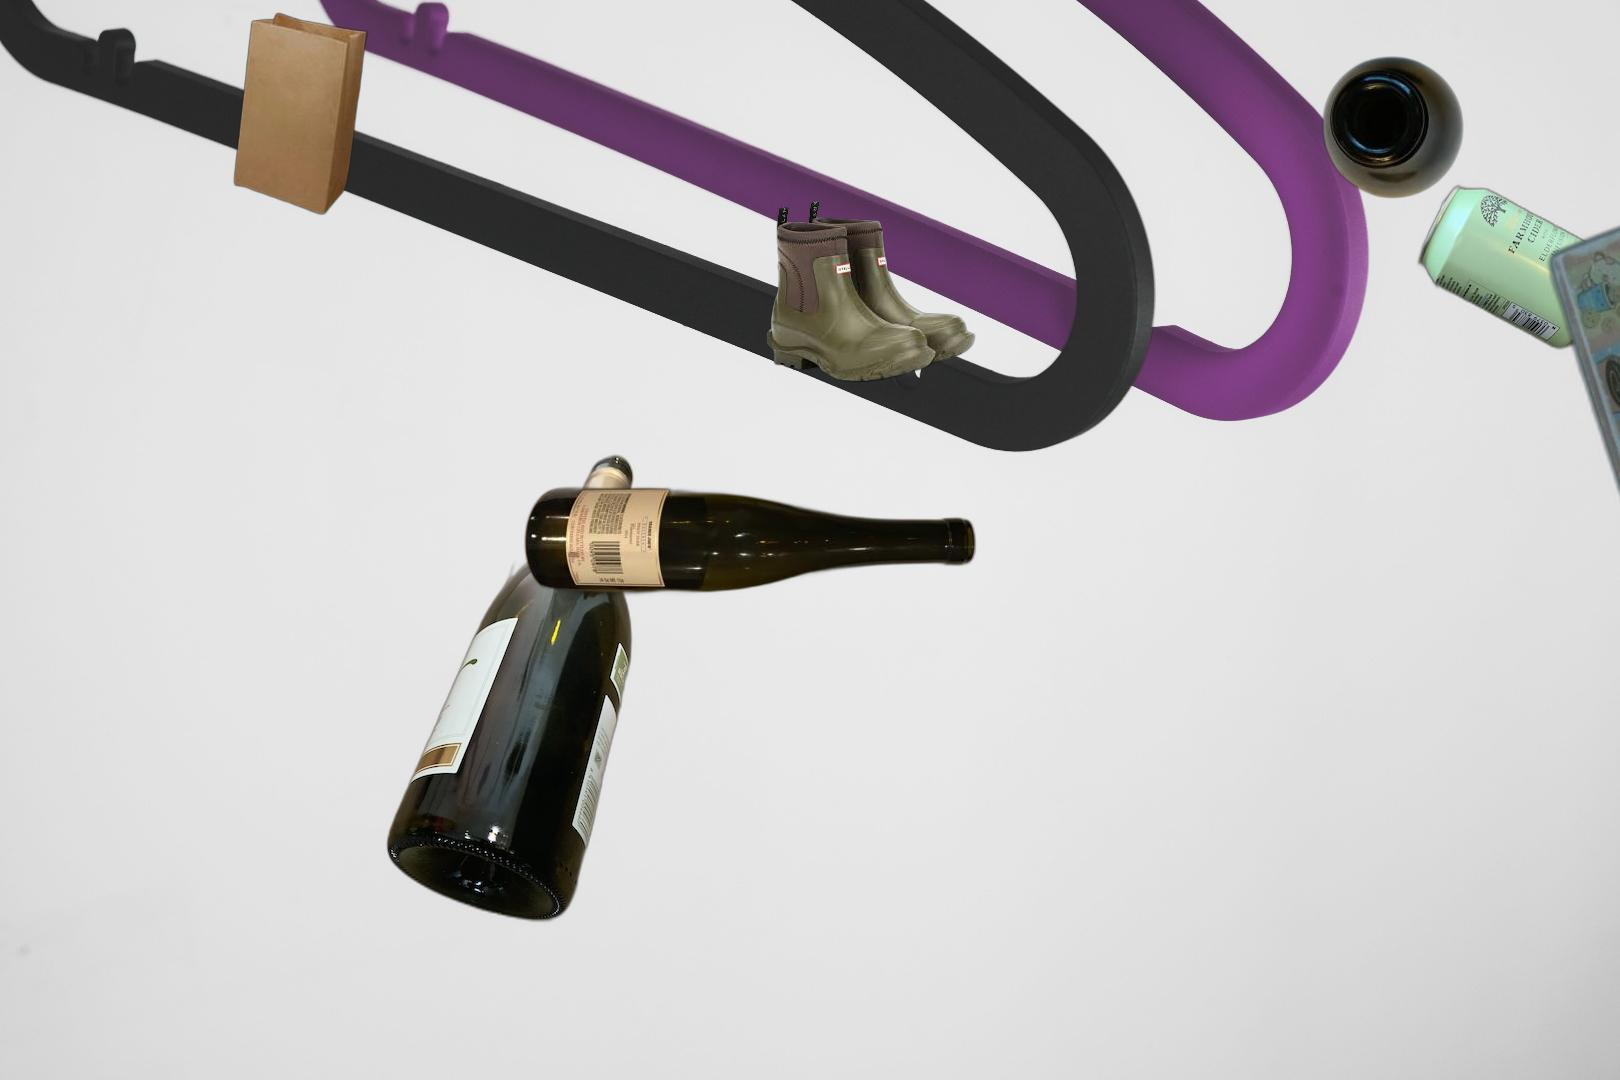glass: (521, 337, 1017, 598), (382, 450, 638, 928), (1319, 54, 1467, 201)
metal-cans: (1414, 180, 1620, 354)
paper-bag: (231, 10, 370, 217)
penholder: (1540, 154, 1620, 797)
shoes: (765, 198, 976, 385)
